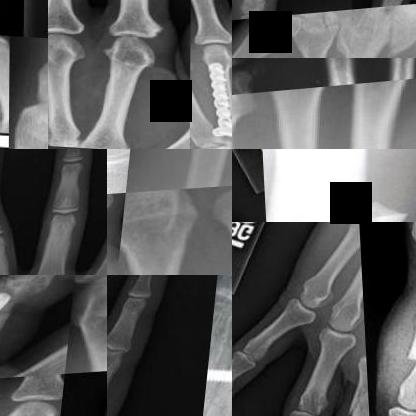fracture: (261, 194, 415, 222), (193, 56, 231, 140), (373, 7, 415, 58), (0, 288, 21, 384), (203, 356, 231, 415), (338, 372, 365, 415), (393, 340, 415, 385)
